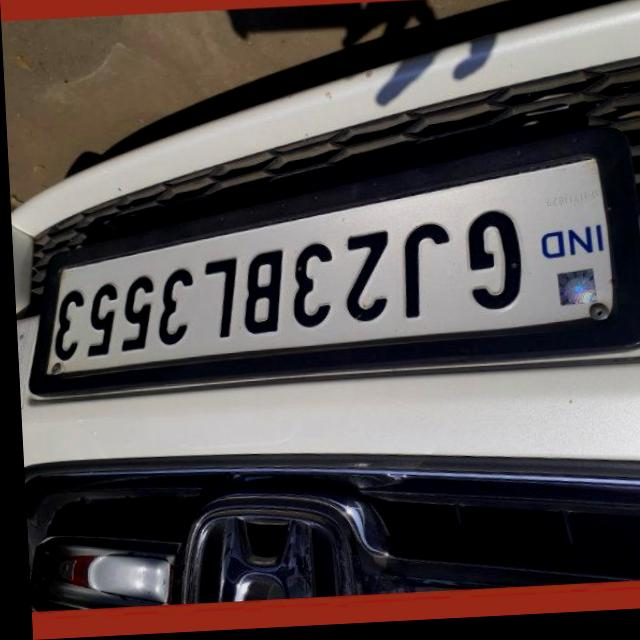2: (340, 234, 388, 326)
3: (284, 245, 335, 330), (154, 266, 192, 349), (44, 284, 83, 364)
5: (79, 282, 118, 358), (114, 274, 150, 351)
b: (240, 250, 283, 337)
g: (456, 209, 526, 319)
j: (393, 225, 450, 326)
l: (197, 254, 239, 341)
